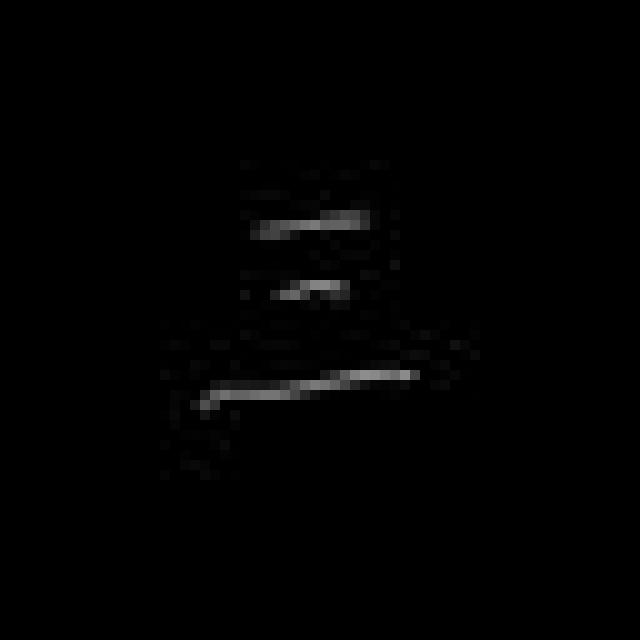3 -three-: (178, 194, 430, 420)
